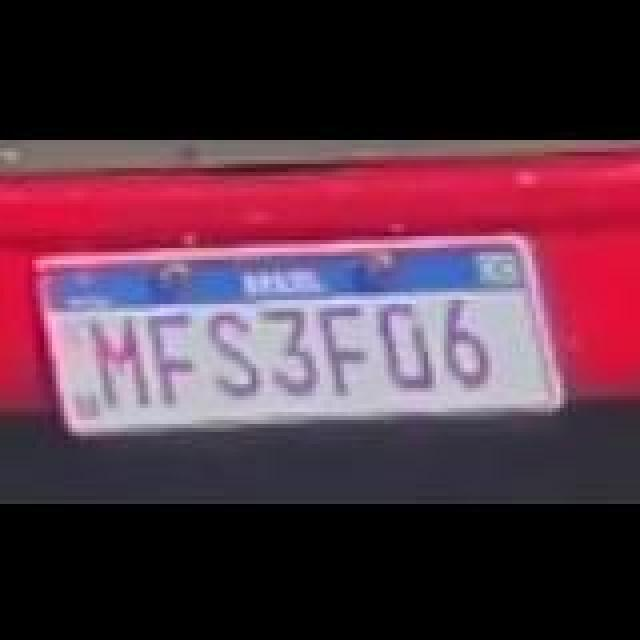3: (264, 302, 328, 394)
6: (440, 294, 496, 386)
D: (378, 298, 438, 390)
F: (142, 304, 202, 400), (318, 302, 378, 394)
M: (86, 312, 154, 408)
S: (204, 306, 268, 398)
